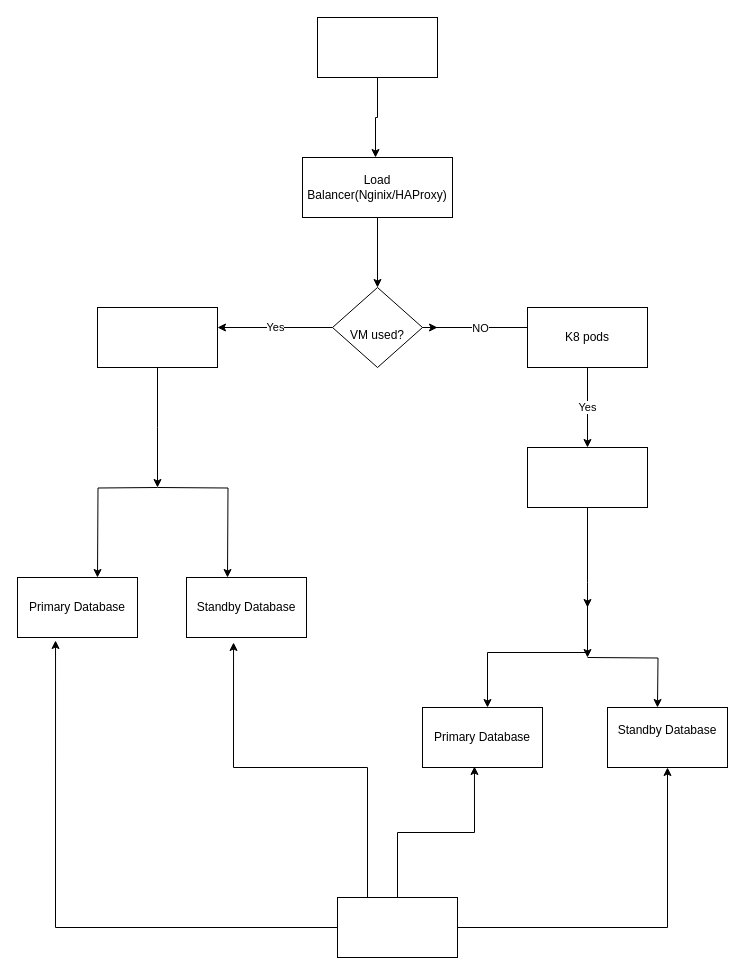
This 745x975 diagram has some shape labels left out. The centre of each missing label's shape, as x and y in pixels:
Auto Scaling Groups: the point at 157,337
Horizontal Pod Autoscaling: the point at 587,477
Monitoring (Splunk, Grafana): the point at 397,927
Users: the point at 377,47
